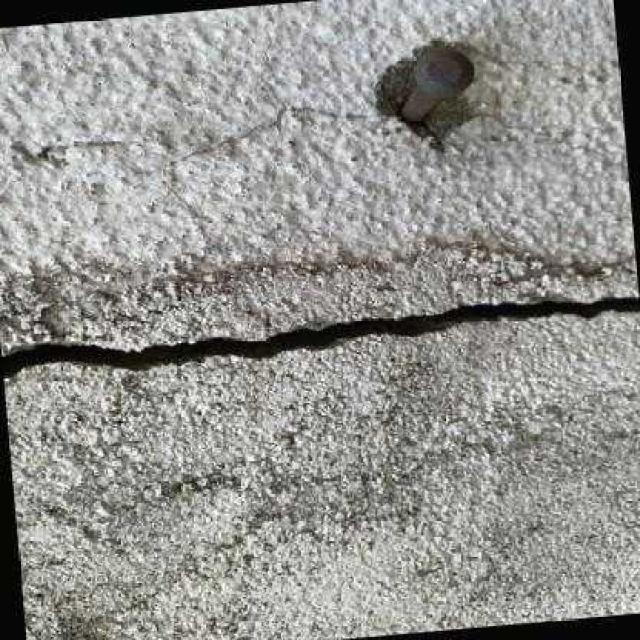D00: (2, 292, 640, 377)
